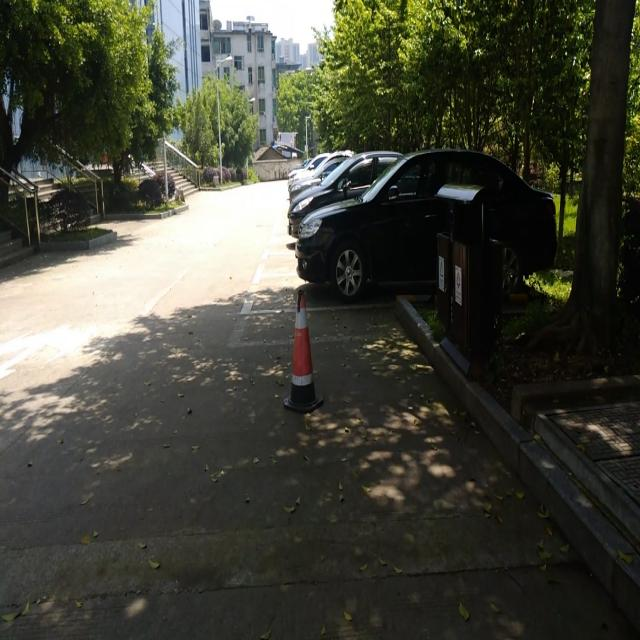ash bin: (434, 180, 507, 376)
car: (295, 144, 557, 304), (285, 149, 402, 238)
pole: (161, 134, 170, 206), (216, 90, 223, 182)
reflective_cone: (282, 290, 323, 410)
